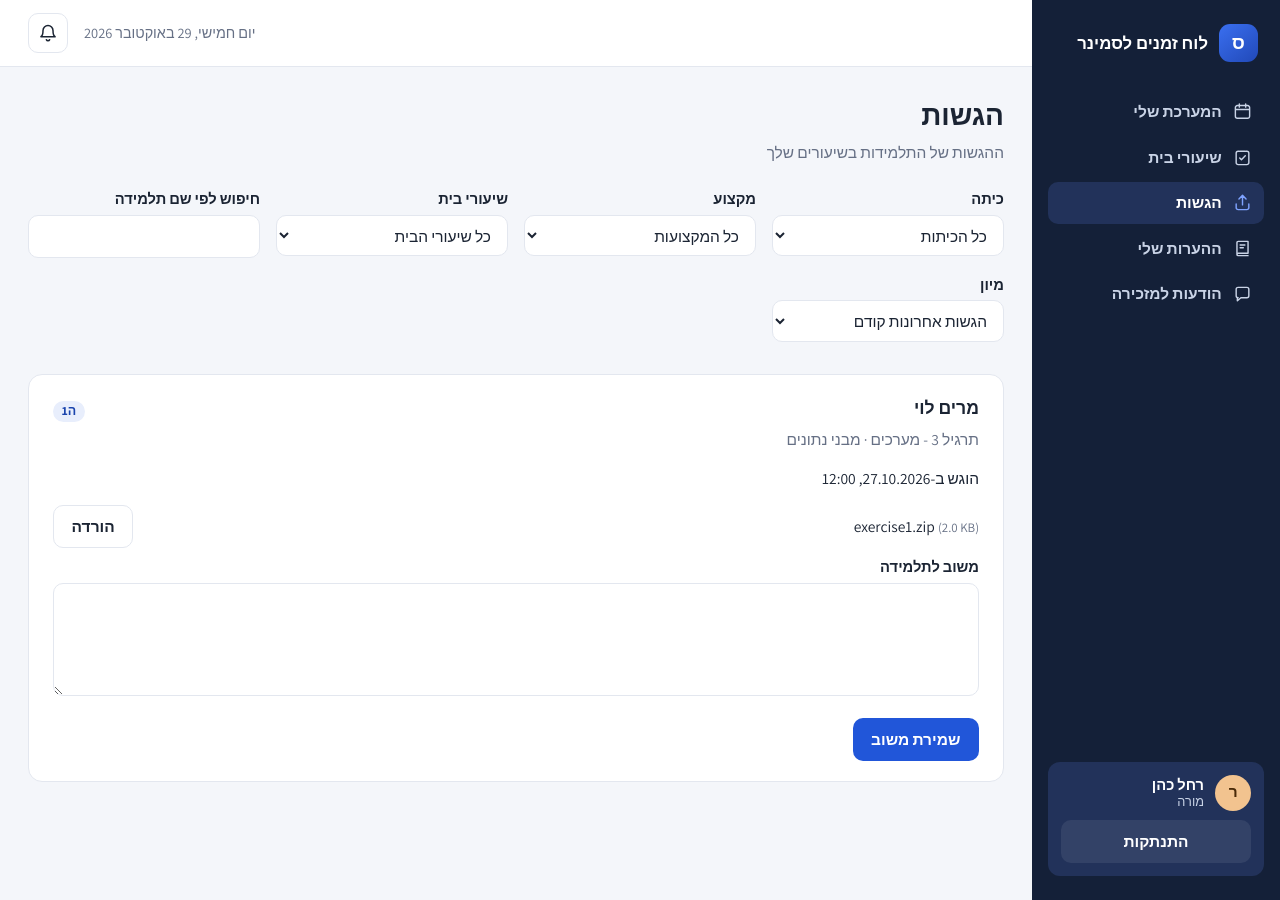
Test: הגשות (מורה) › משוב › שגיאת שרת בשמירת משוב מוצגת
Type "משוב" into the text box labelled "משוב לתלמידה" at (516, 639), box [53, 583, 979, 696]
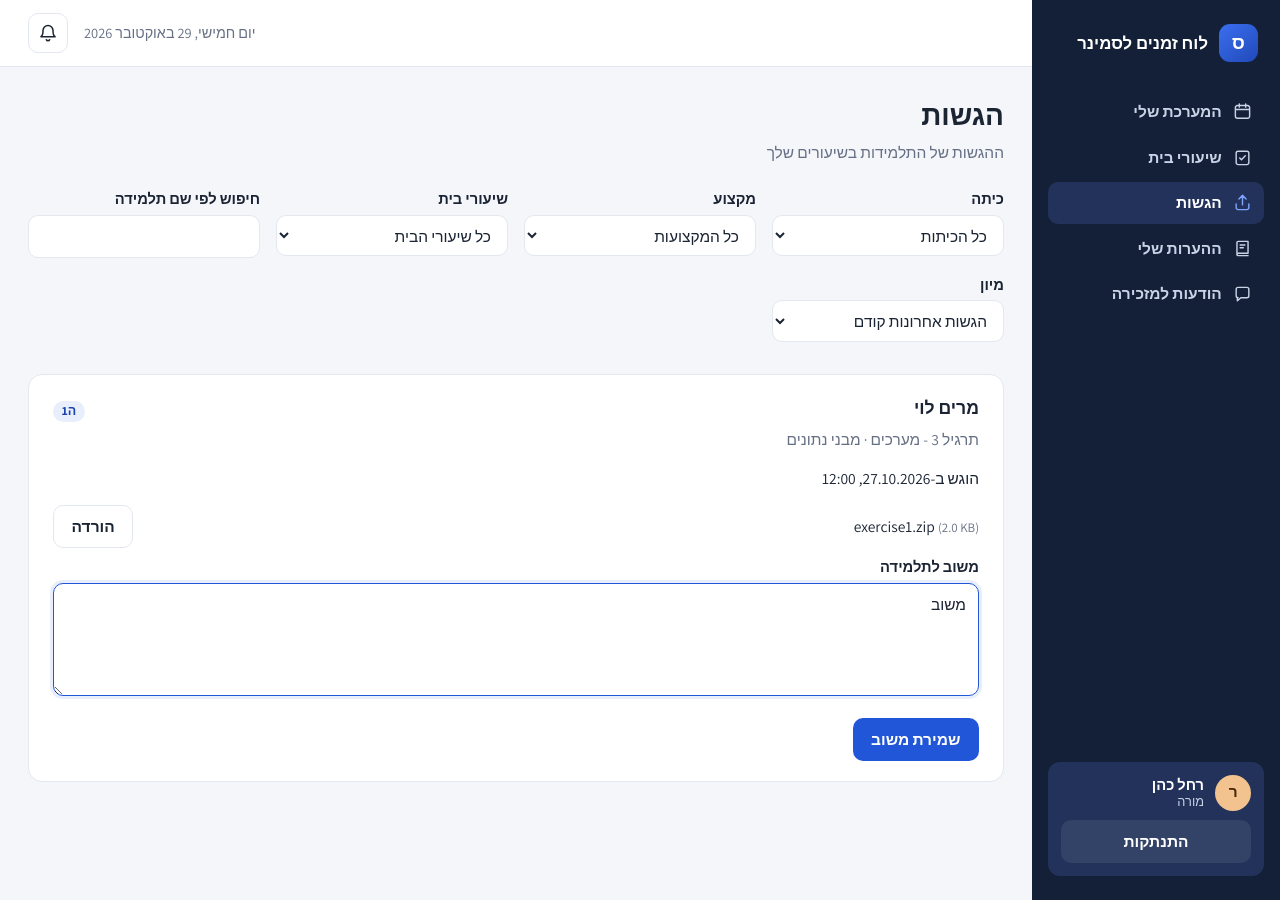
Click the button "שמירת משוב" at (916, 739), box [852, 718, 979, 761]
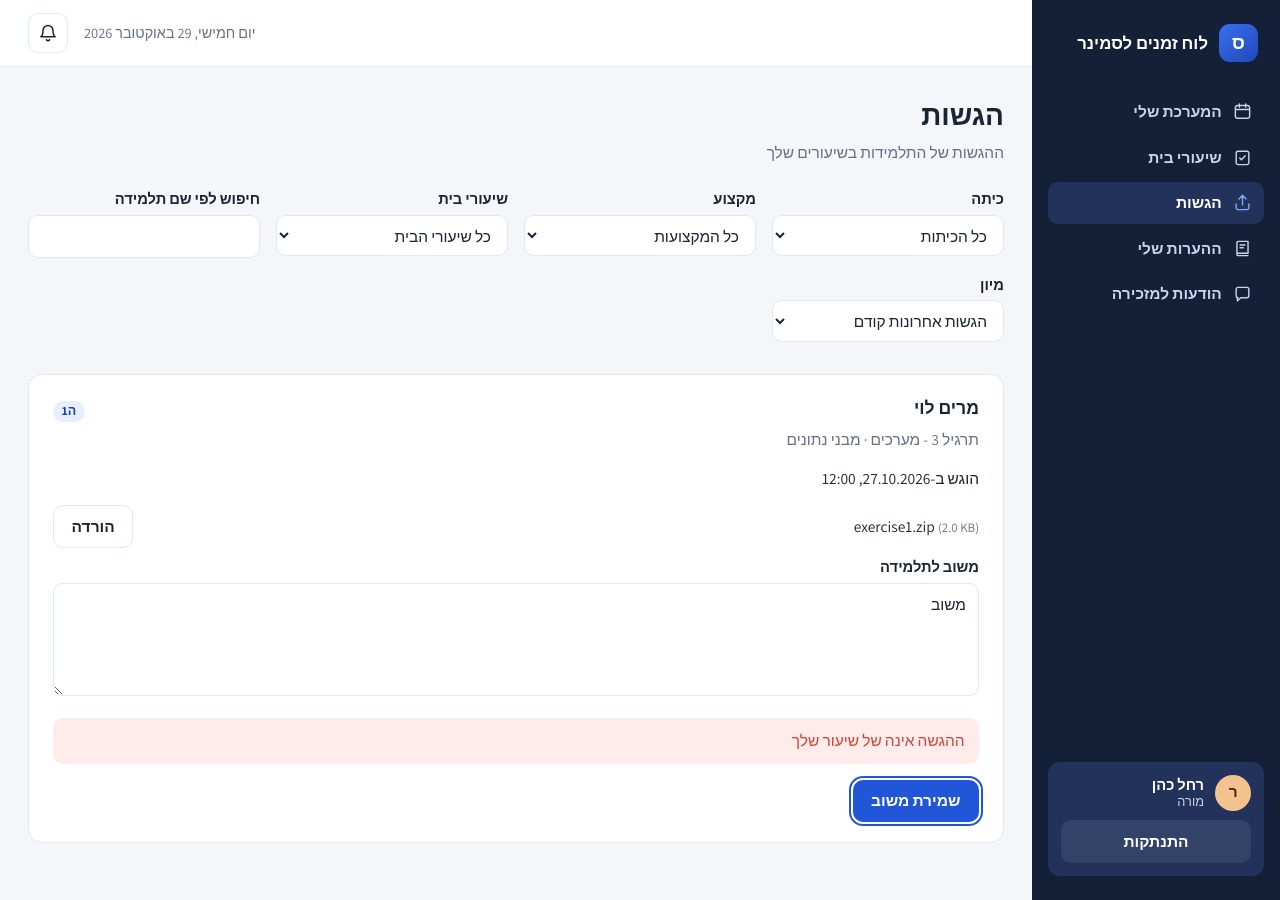
Check: the message reads "ההגשה אינה של שיעור שלך", box [792, 730, 965, 750]
